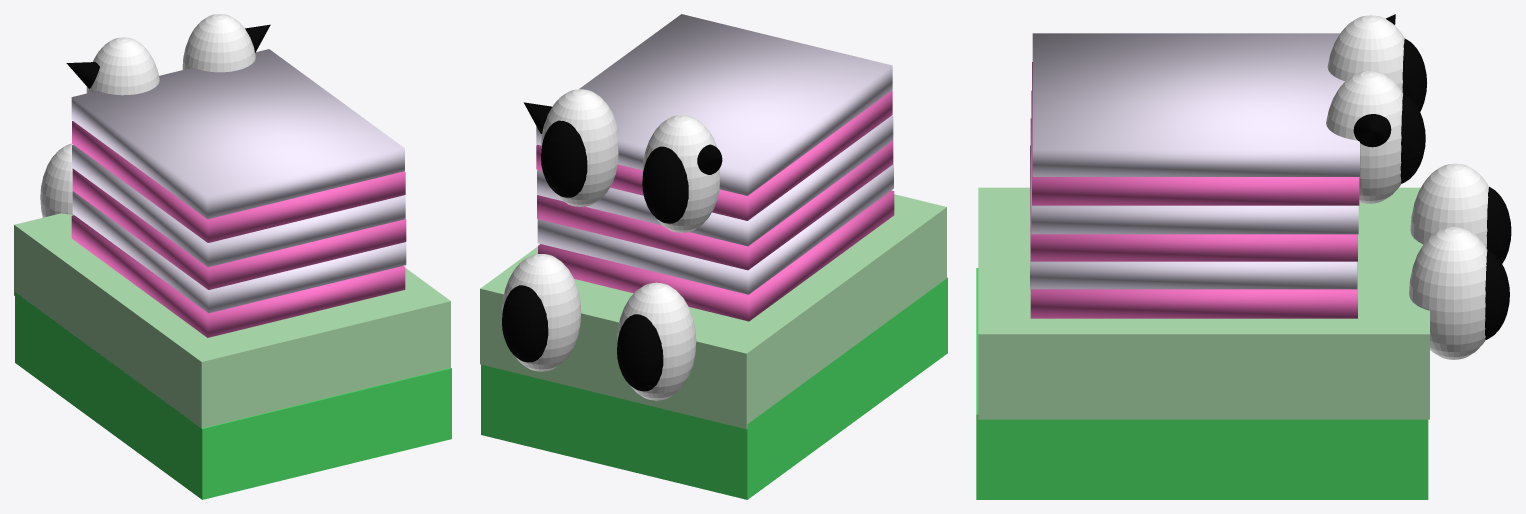
File: KuihLapisTalam1.fbx
3 renders of one model, left to right at view 1: azimuth 30°, elevation 25°; view 2: azimuth 150°, elevation 25°; view 3: azimuth 270°, elevation 25°, orthographic. The views are drawn at different scales.
Visible parts, largest first — view 1: Cone, Cube.005; view 2: Cube.005, Cone; view 3: Cube.005, Cone.
Boxes of the visible parts, x1,y1,x2,y2 form: Cone: [66, 14, 406, 337]; Cube.005: [14, 143, 451, 499]; Cube.005: [480, 194, 947, 499]; Cone: [523, 14, 894, 321]; Cube.005: [976, 163, 1511, 499]; Cone: [1030, 14, 1426, 318].
Size of the model in its own units: 262 by 322 by 405.
